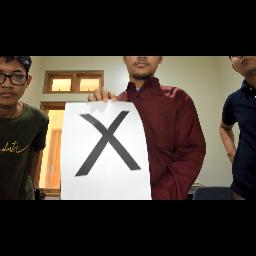x: (66, 105, 148, 187)
